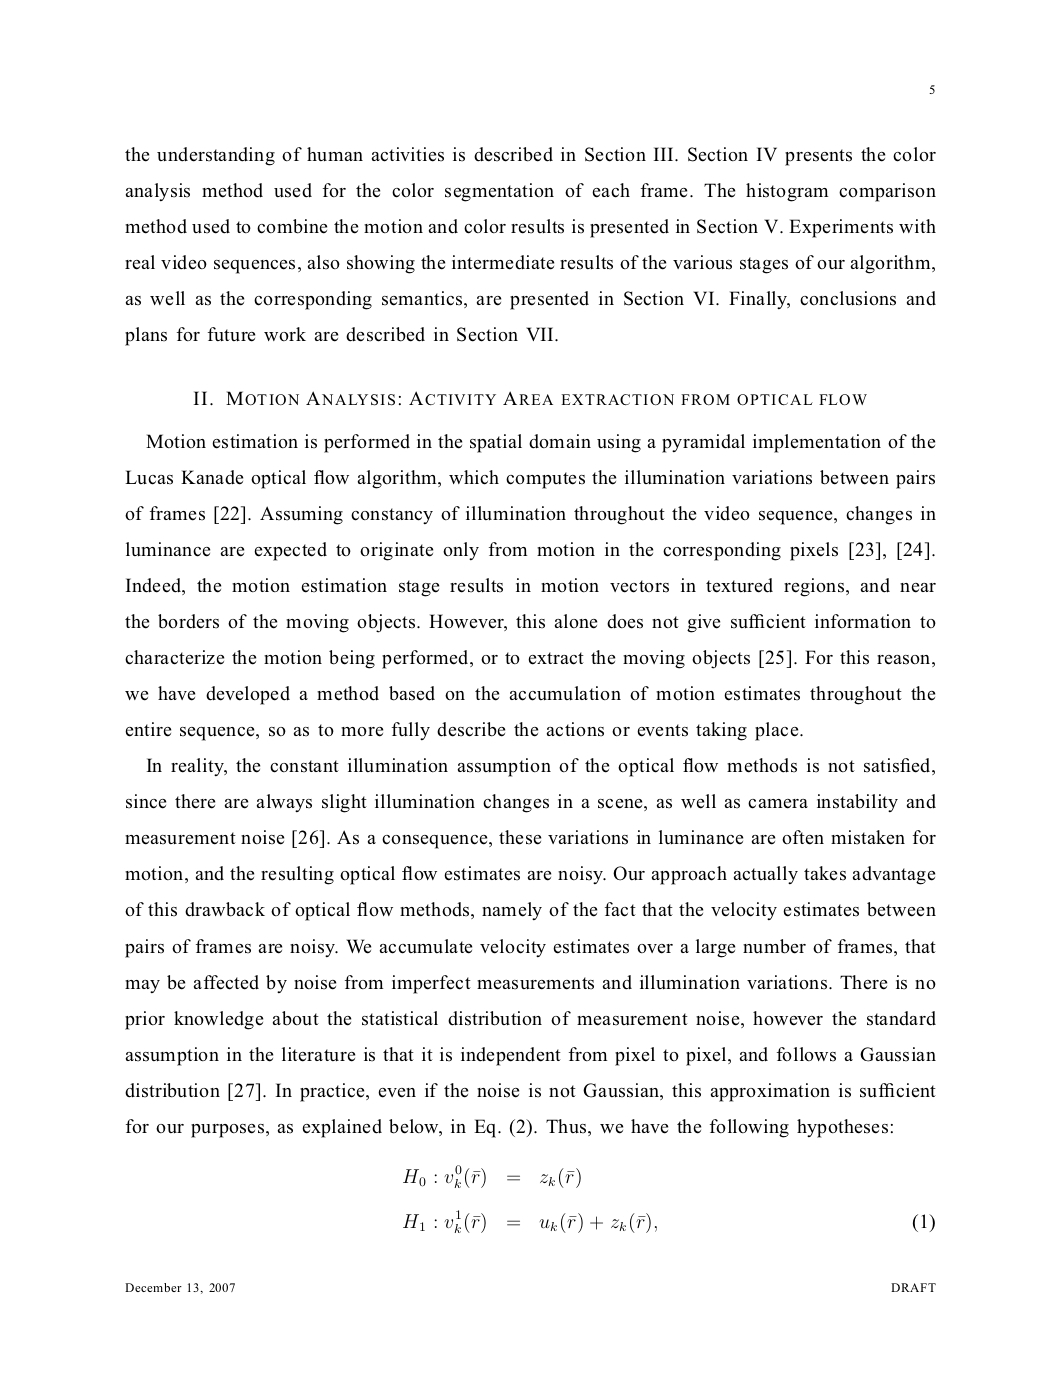formula: (403, 1209, 934, 1233), (403, 1163, 580, 1188)
